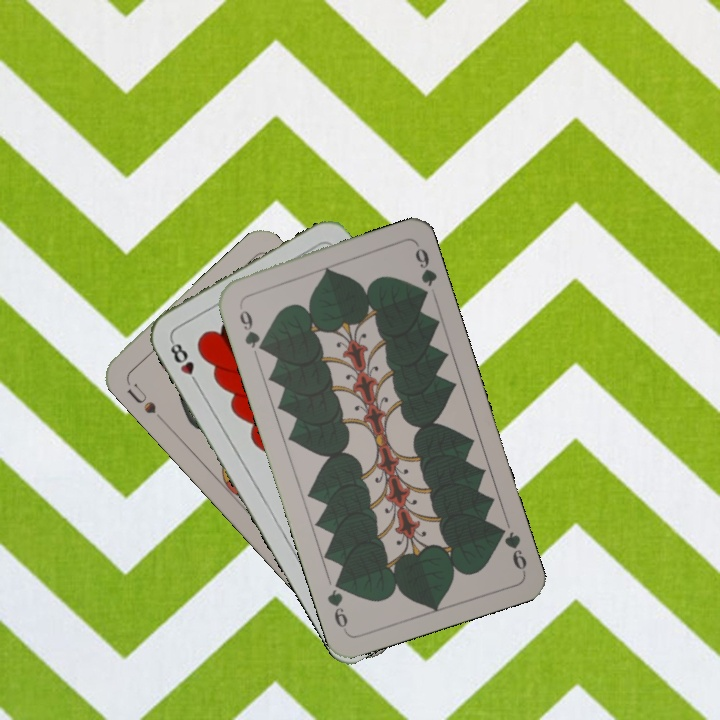G9: (492, 521, 529, 575), (235, 299, 268, 354)
H8: (166, 336, 202, 389)
SU: (122, 377, 159, 417)
